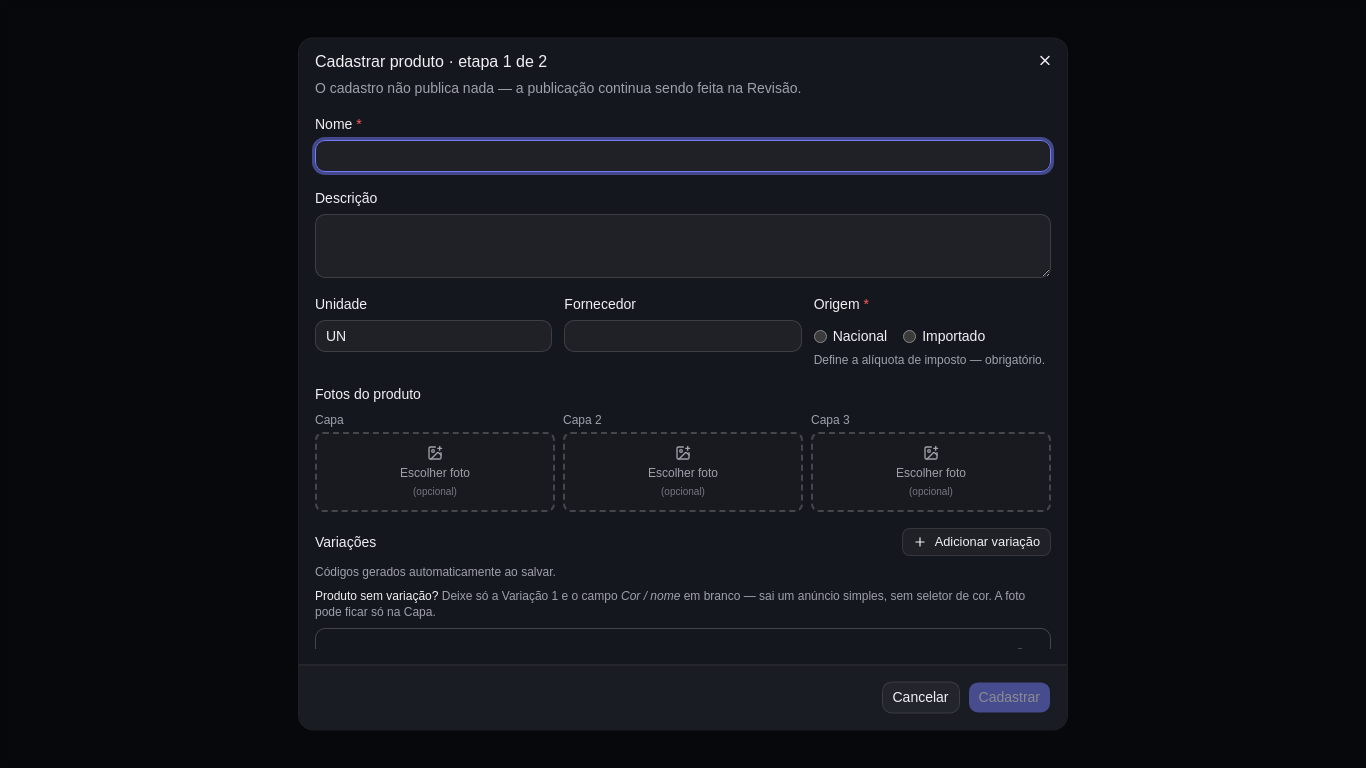
DialogCadastroProduto — formulário em cards › custo inválido em qualquer linha trava o botão, não só preço
The image size is (1366, 768).
Type "Produto Teste" into the field labelled "Nome".
click(683, 156); type("Produto Teste")  # box x1=315 y1=140 x2=1051 y2=172
Click the radio button labelled "Nacional".
click(820, 336)  # box x1=814 y1=330 x2=827 y2=343
(page scrolled)
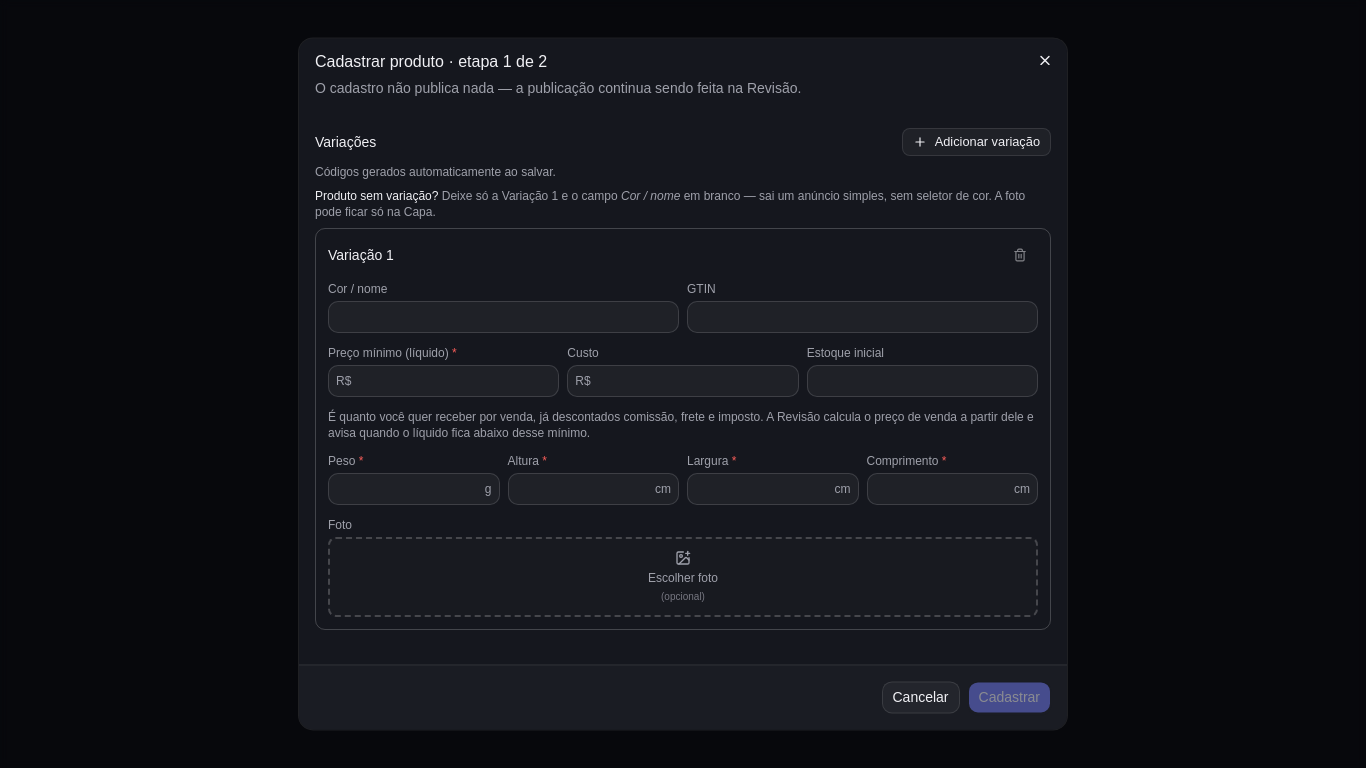
Type "10" into the field named "Preço mínimo (líquido) da variação 1".
click(444, 381); type("10")  # box x1=328 y1=365 x2=559 y2=397
Type "250" into the field named "Peso (g) da variação 1".
click(414, 489); type("250")  # box x1=328 y1=473 x2=500 y2=505
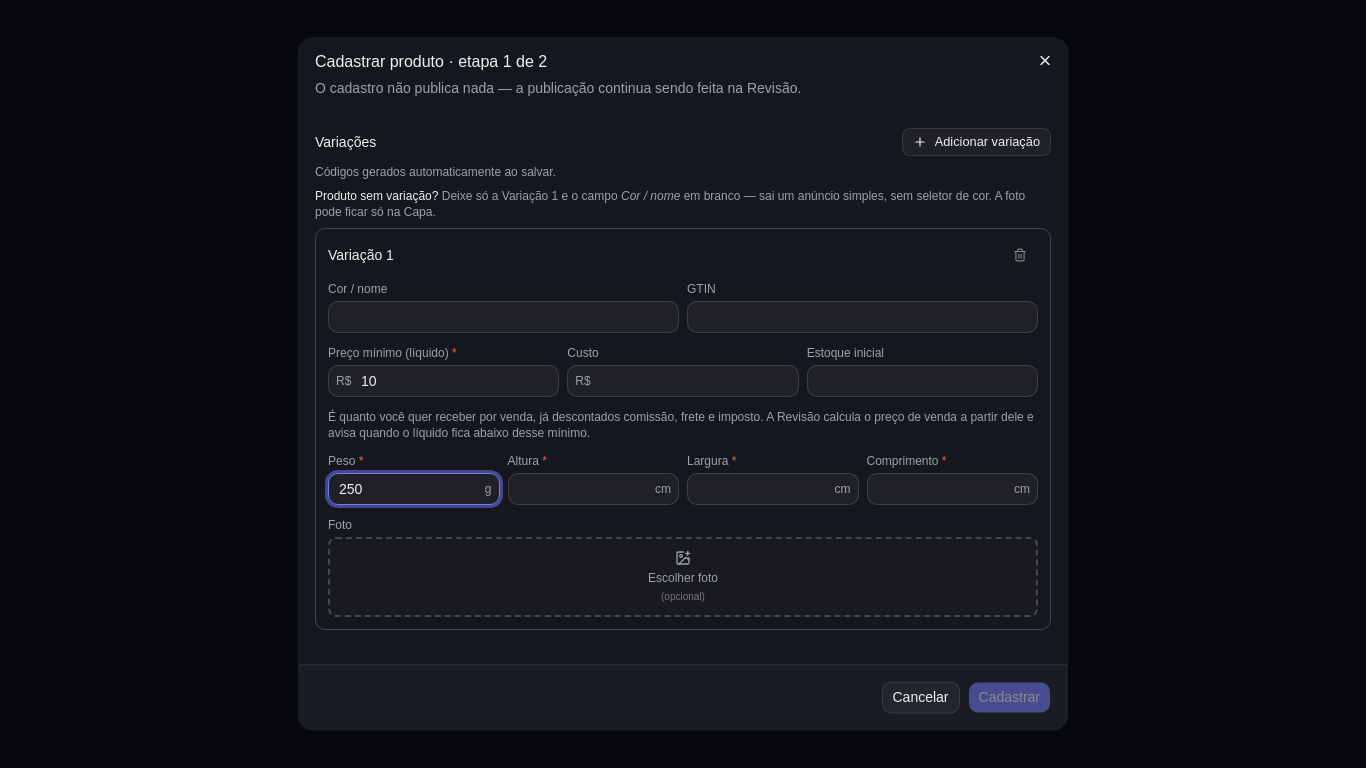
Type "4" into the field named "Altura (cm) da variação 1".
click(593, 489); type("4")  # box x1=508 y1=473 x2=679 y2=505
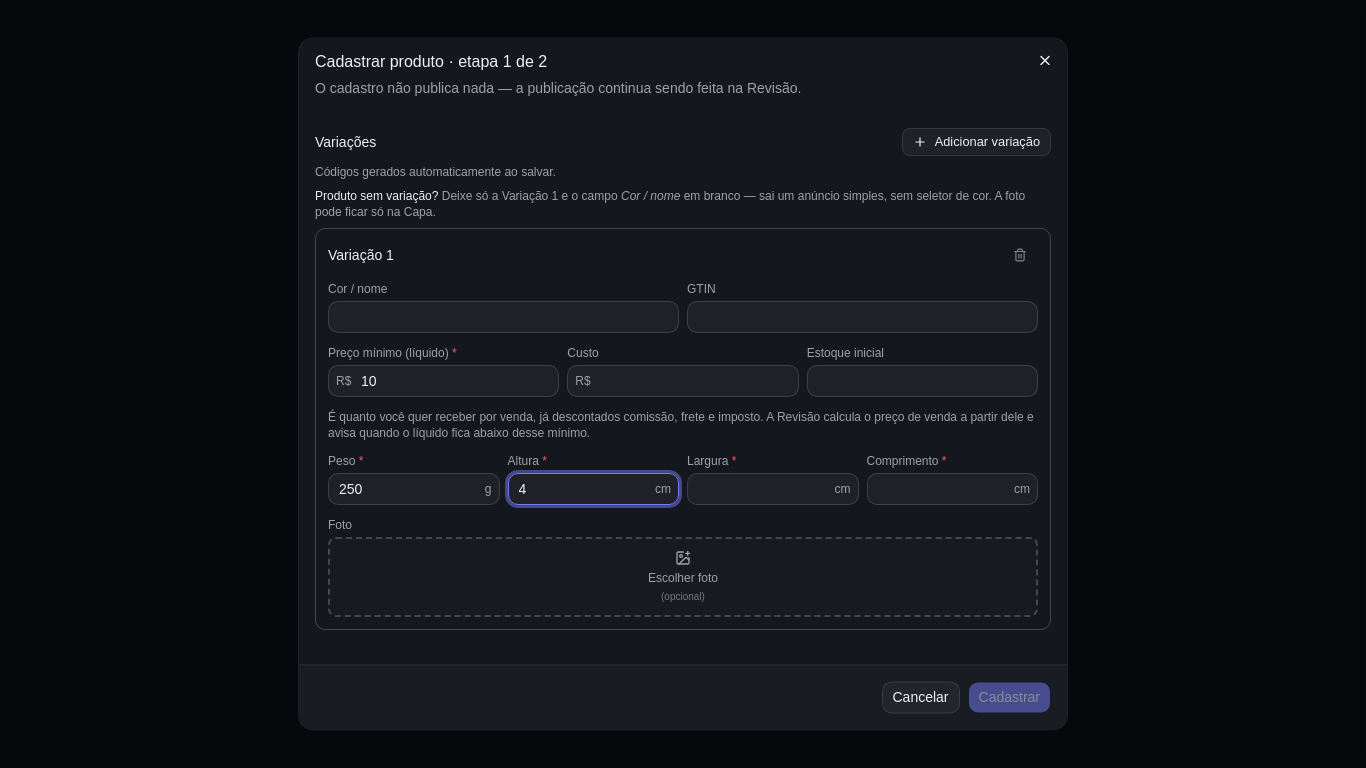
Type "20" into the field named "Largura (cm) da variação 1".
click(773, 489); type("20")  # box x1=687 y1=473 x2=858 y2=505
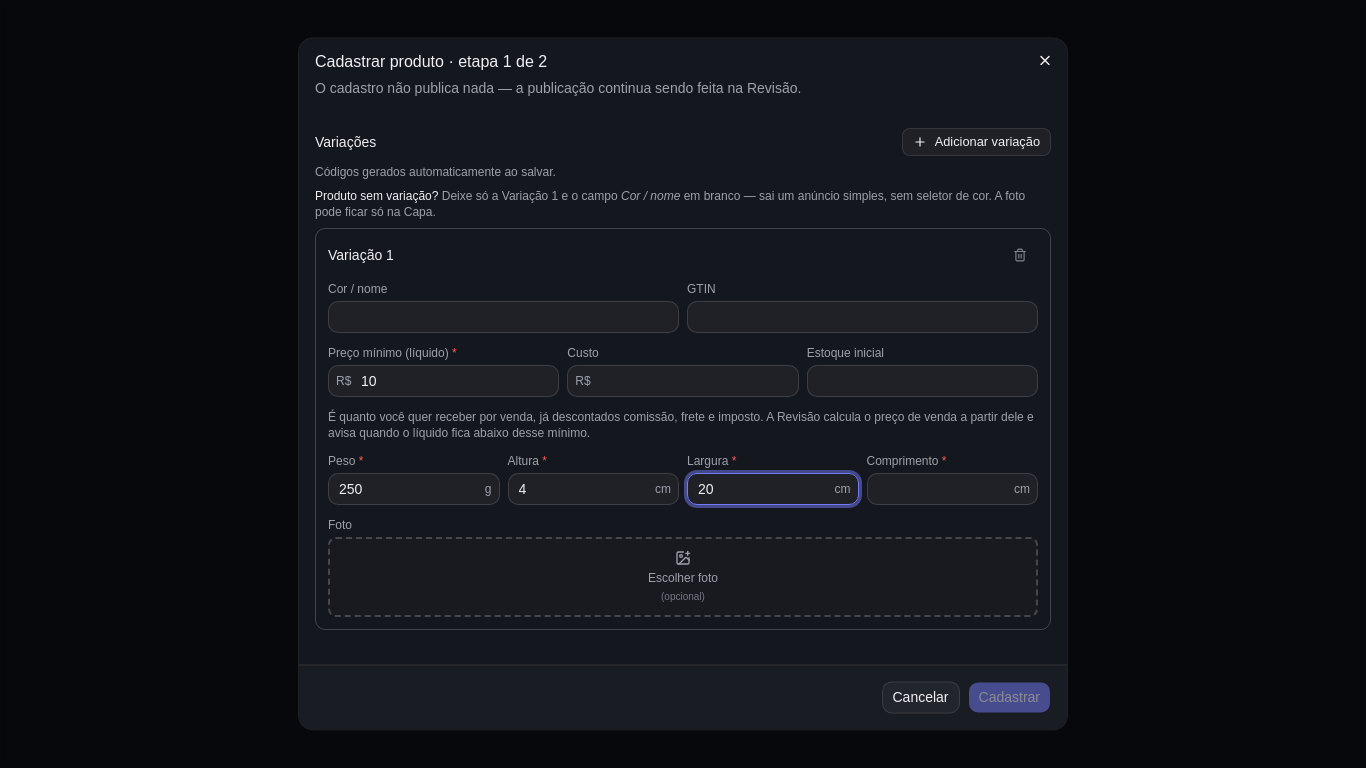
Type "30" into the field named "Comprimento (cm) da variação 1".
click(952, 489); type("30")  # box x1=866 y1=473 x2=1038 y2=505
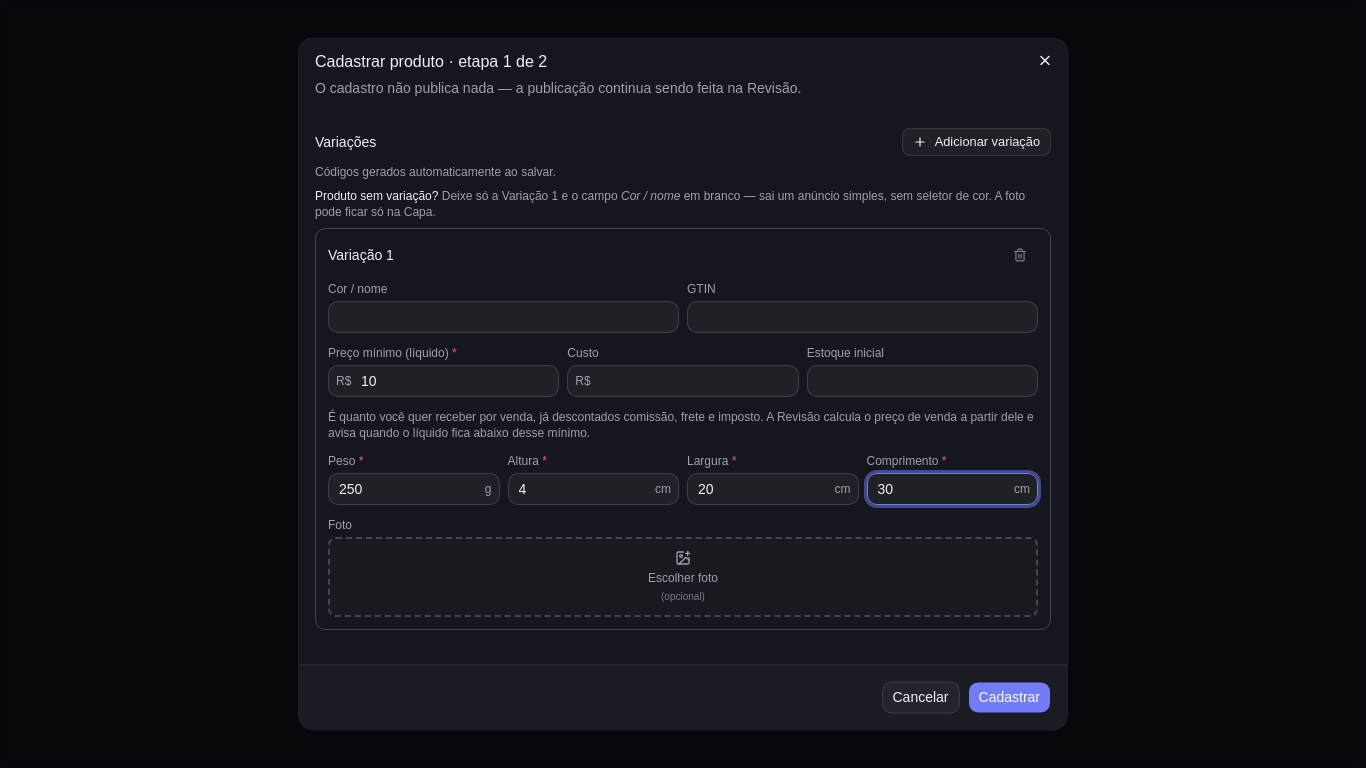
Check: the button "Cadastrar" is enabled, box x1=968 y1=682 x2=1051 y2=714
Type "abc" into the field named "Custo da variação 1".
click(683, 381); type("abc")  # box x1=567 y1=365 x2=799 y2=397
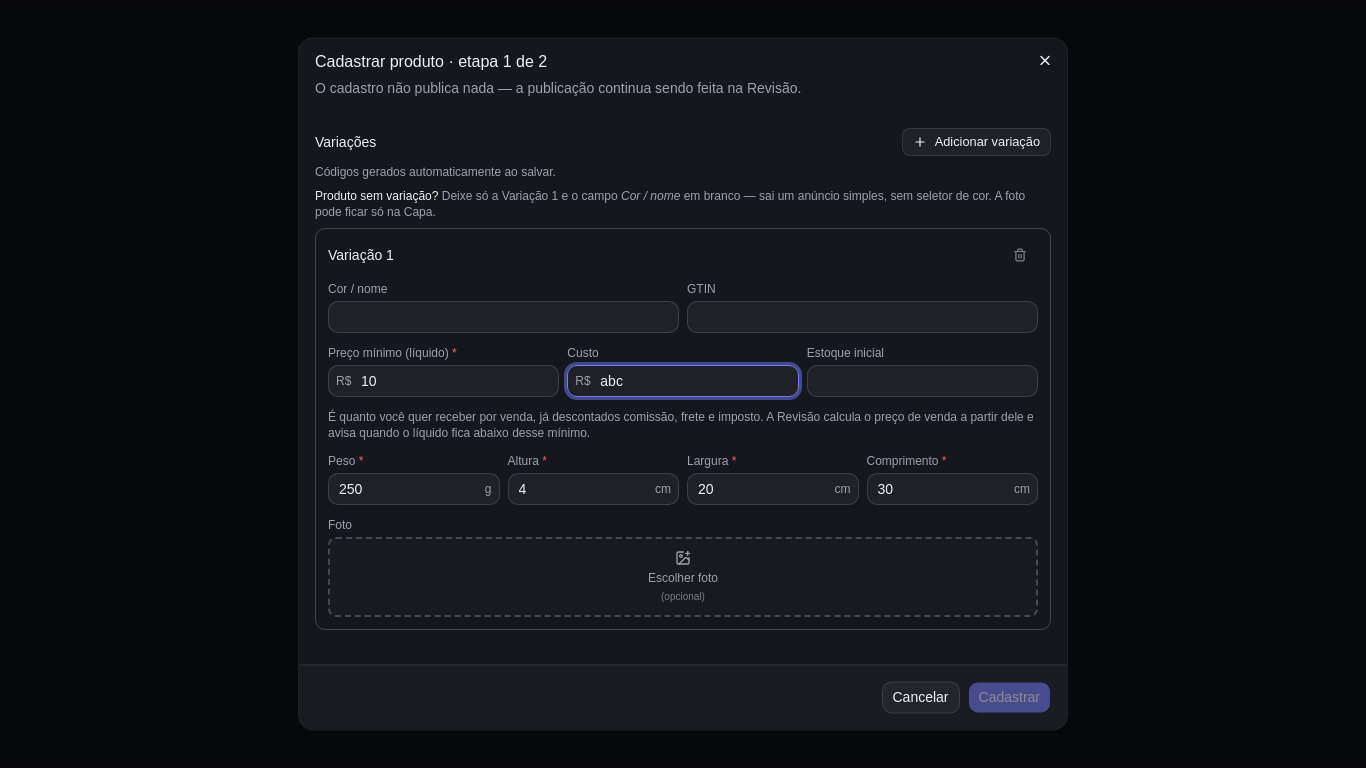
Check: the button "Cadastrar" is disabled, box x1=968 y1=682 x2=1051 y2=714
